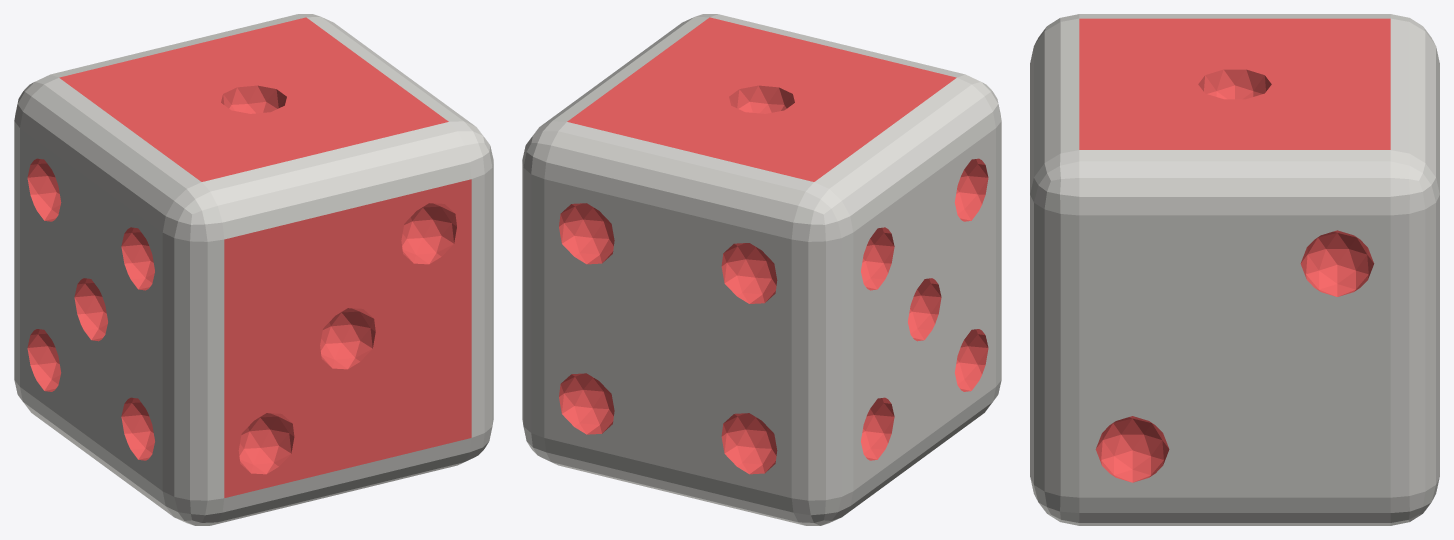
The model's file is Dice.fbx.
3 views of the same model, side by side, from view 1: azimuth 30°, elevation 25°; view 2: azimuth 150°, elevation 25°; view 3: azimuth 270°, elevation 25° (orthographic). The views are drawn at different scales.
Visible parts, largest first — view 1: Dice; view 2: Dice; view 3: Dice.
Part boxes in pixels (x1,y1,x2,y2): Dice: (14,14,493,525); Dice: (522,14,1001,525); Dice: (1030,14,1439,525).
Size of the model in its own units: 0.5 by 0.5 by 0.5.
